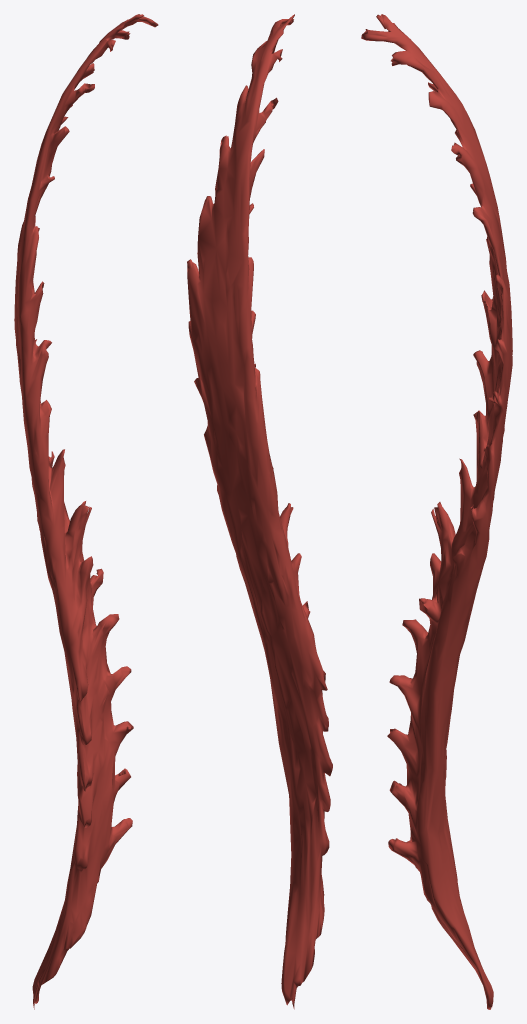
Rendered from musculos-longissimus-thoracis-muscle-l.glb.
3 renders of one model, left to right at view 1: azimuth 90°, elevation 25°; view 2: azimuth 150°, elevation 25°; view 3: azimuth 270°, elevation 25°, orthographic. The views are drawn at different scales.
Parts seen in each view (by area): view 1: Longissimus thoracis muscle.l; view 2: Longissimus thoracis muscle.l; view 3: Longissimus thoracis muscle.l.
Boxes of the visible parts, box(x1,y1,x2,y2) form: Longissimus thoracis muscle.l: box(14, 14, 158, 1009); Longissimus thoracis muscle.l: box(187, 14, 332, 1009); Longissimus thoracis muscle.l: box(361, 14, 512, 1009).
Bounding box in the file's own units: 0.0721 × 0.5477 × 0.0737.
